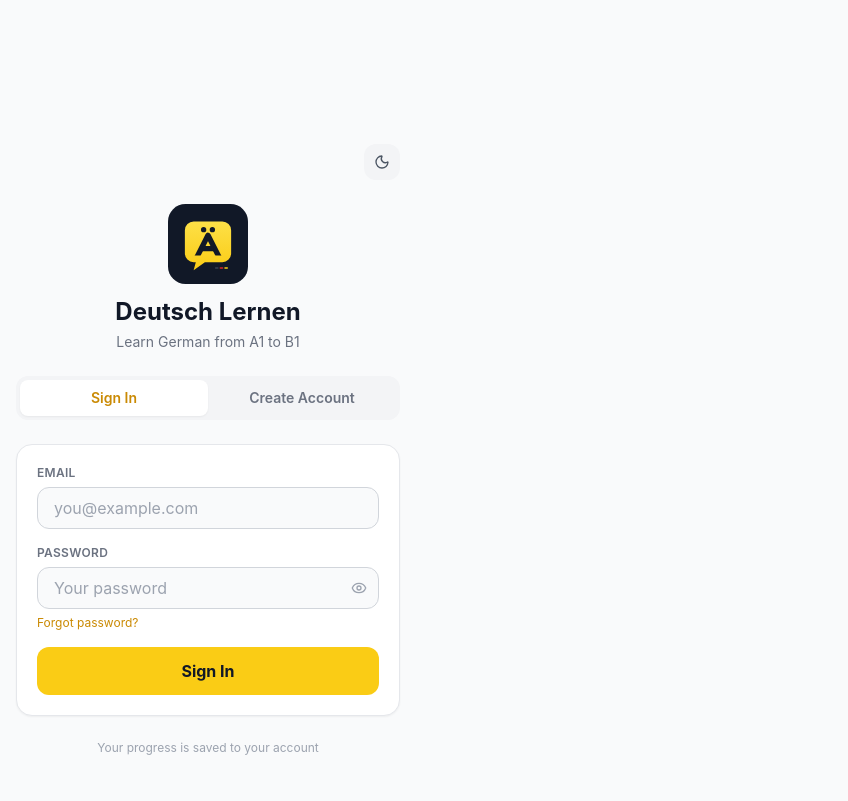
Test: logging in before verifying offers to resend the email
This screenshot has width=848, height=801.
Type "anna@example.com" into the field with placeholder "you@example.com" at (208, 508), box [37,487,379,529]
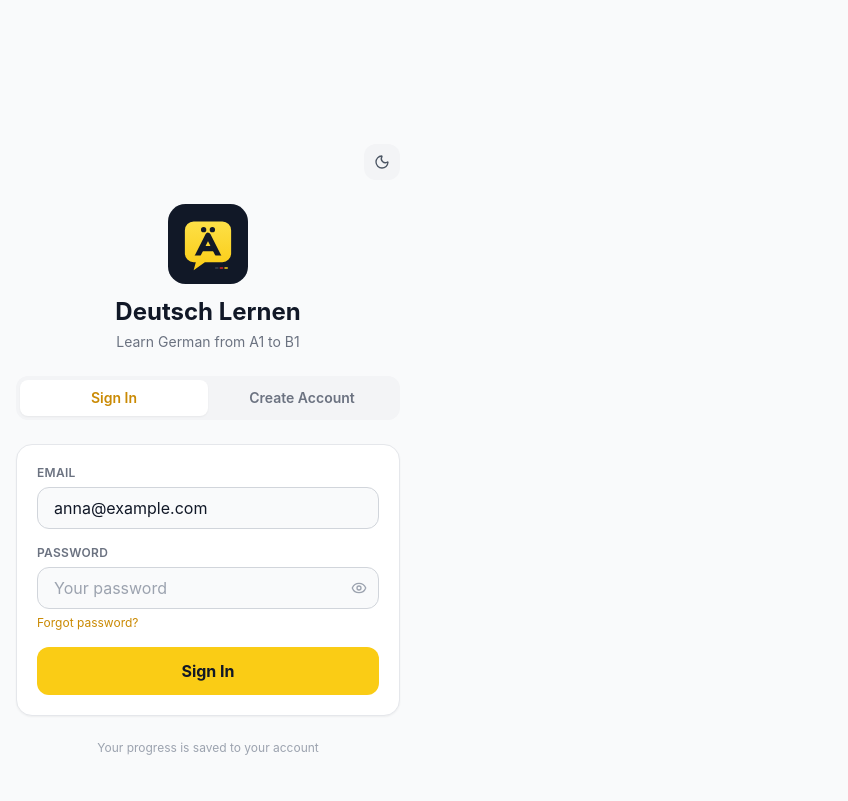
Type "secret123" into the password field with placeholder "Your password" at (208, 588), box [37,567,379,609]
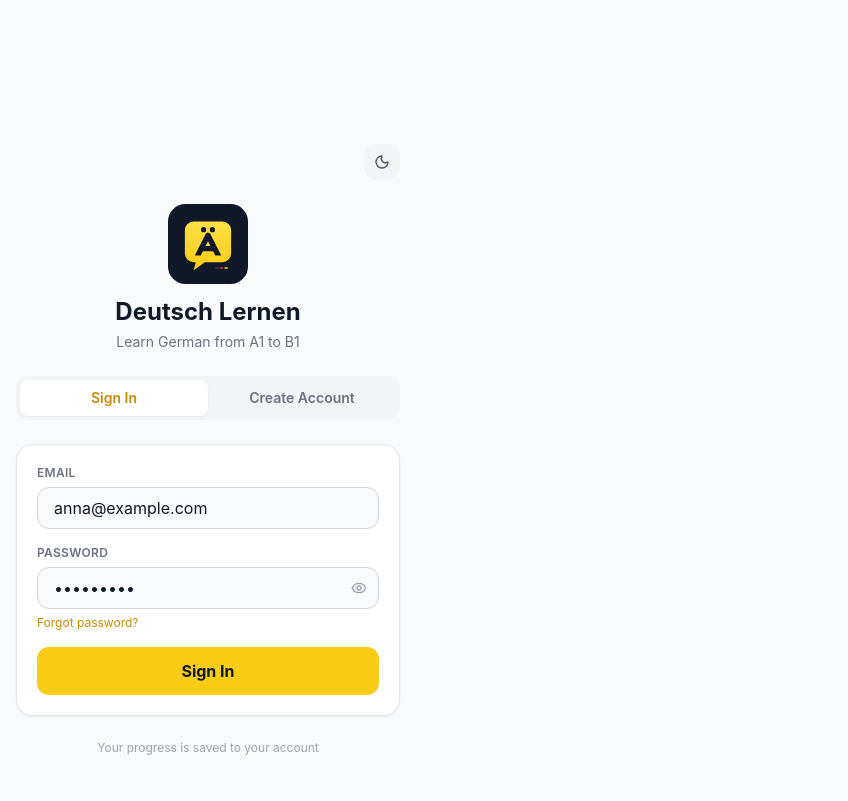
Click the button "Sign In" below "Email" at (208, 671), box [37,647,379,695]
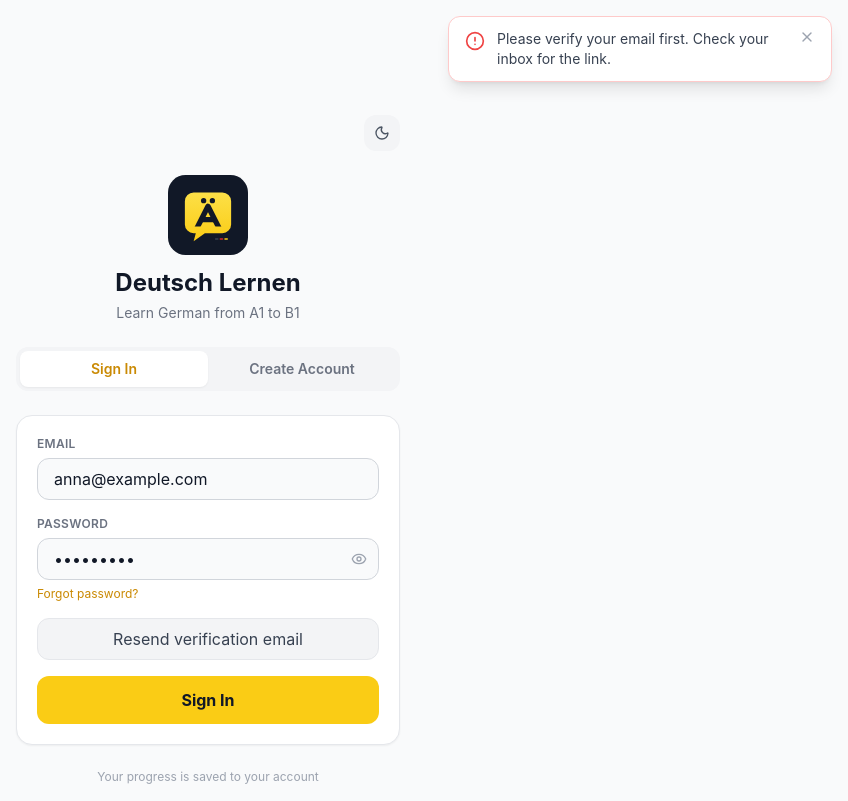
Expected: the text "Please verify your email first" is shown, [497,30,769,67]
Click the button "Resend verification email" at (208, 639), box [37,618,379,660]
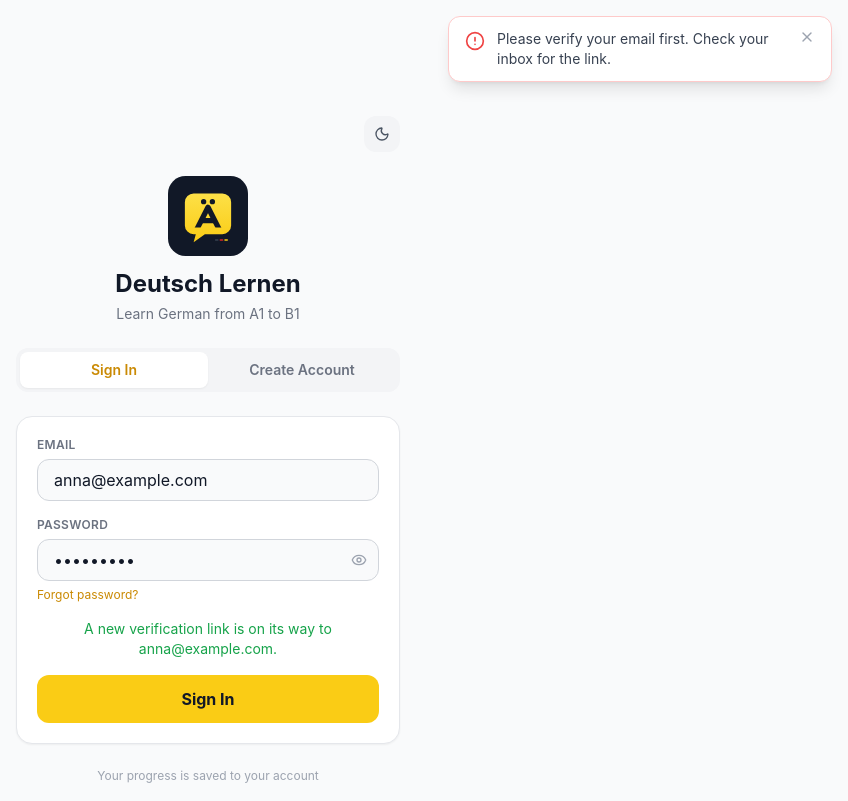
Expected: the text "A new verification link is on its way to anna@example.com." is shown, [84,620,332,657]
